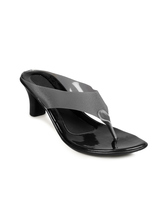shoes: (17, 68, 153, 156)
